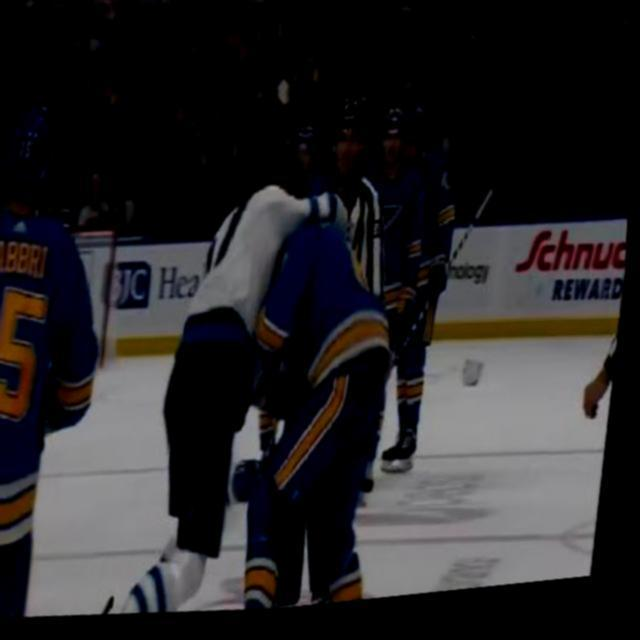fight: (152, 137, 416, 564)
